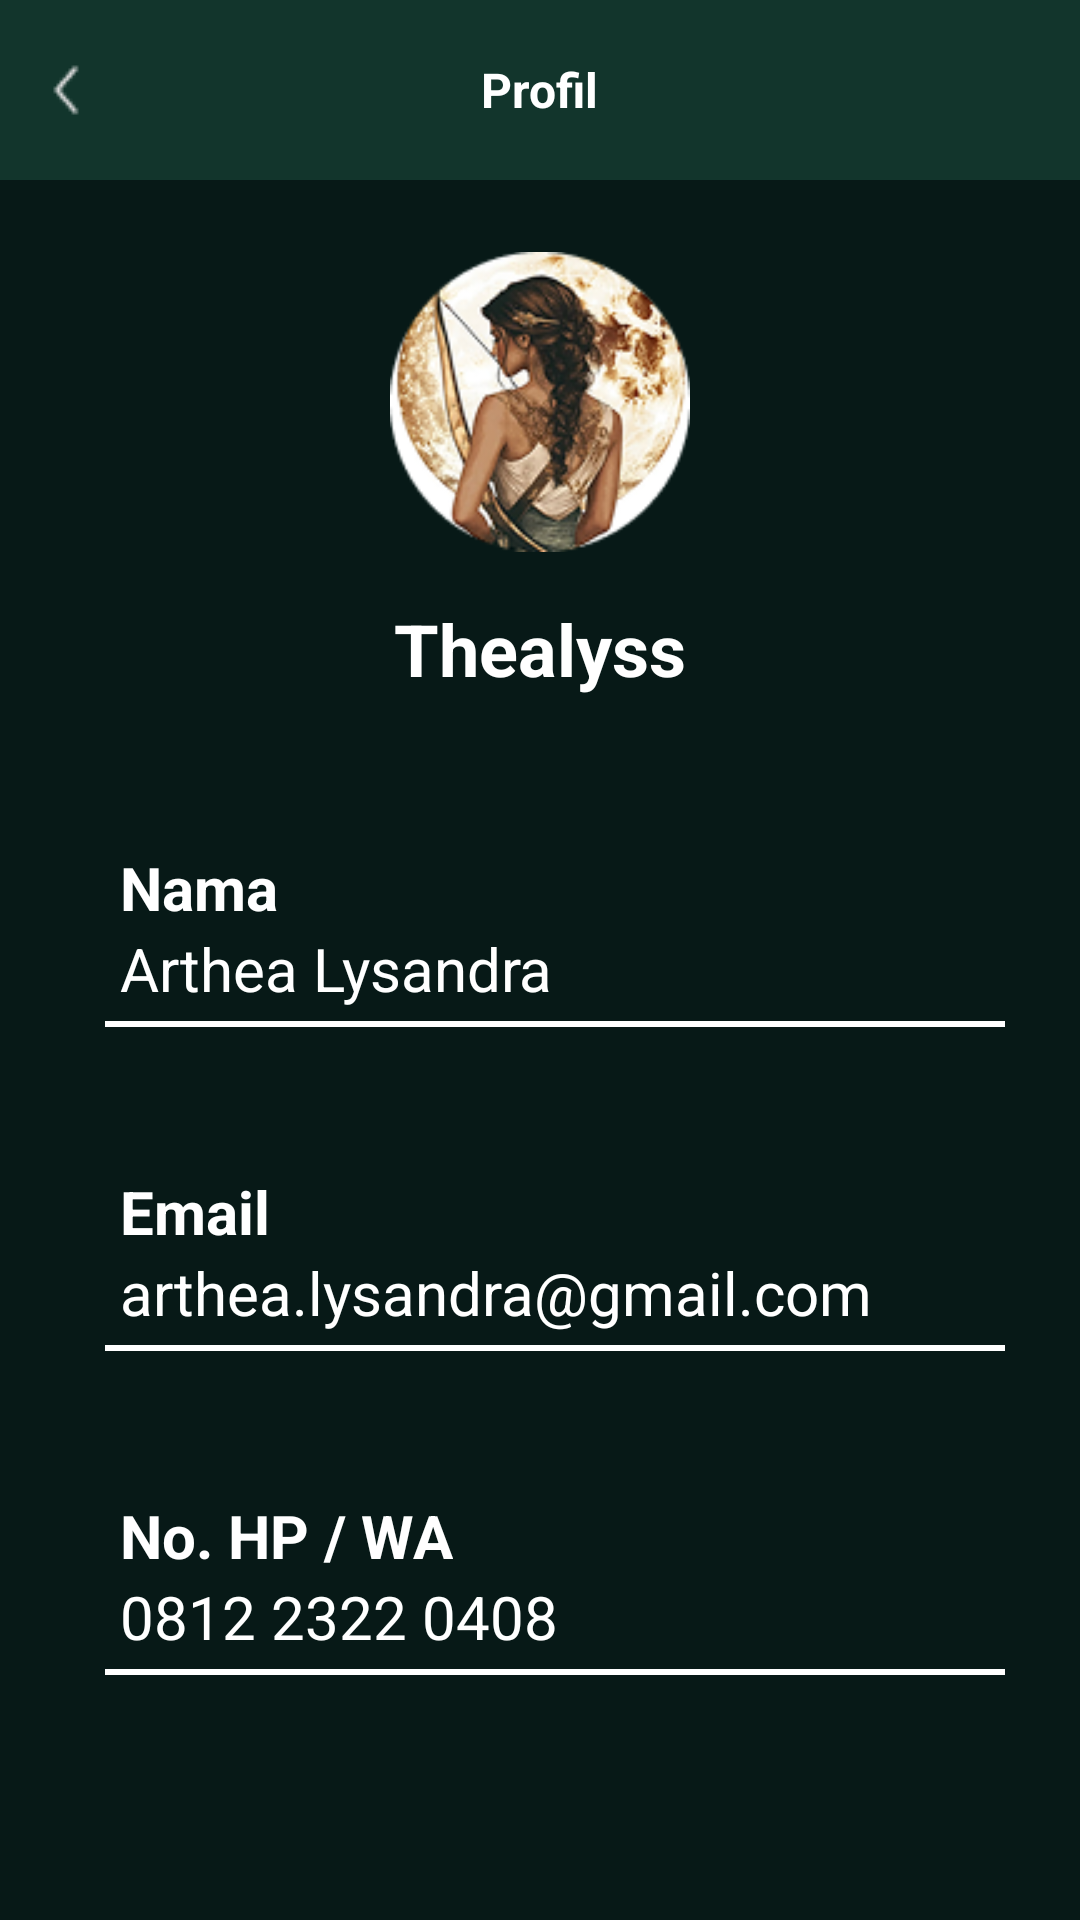

Icons on this 1080x1920 Android screen, each with the point to tap as point (x, y):
back: point (66, 90)
